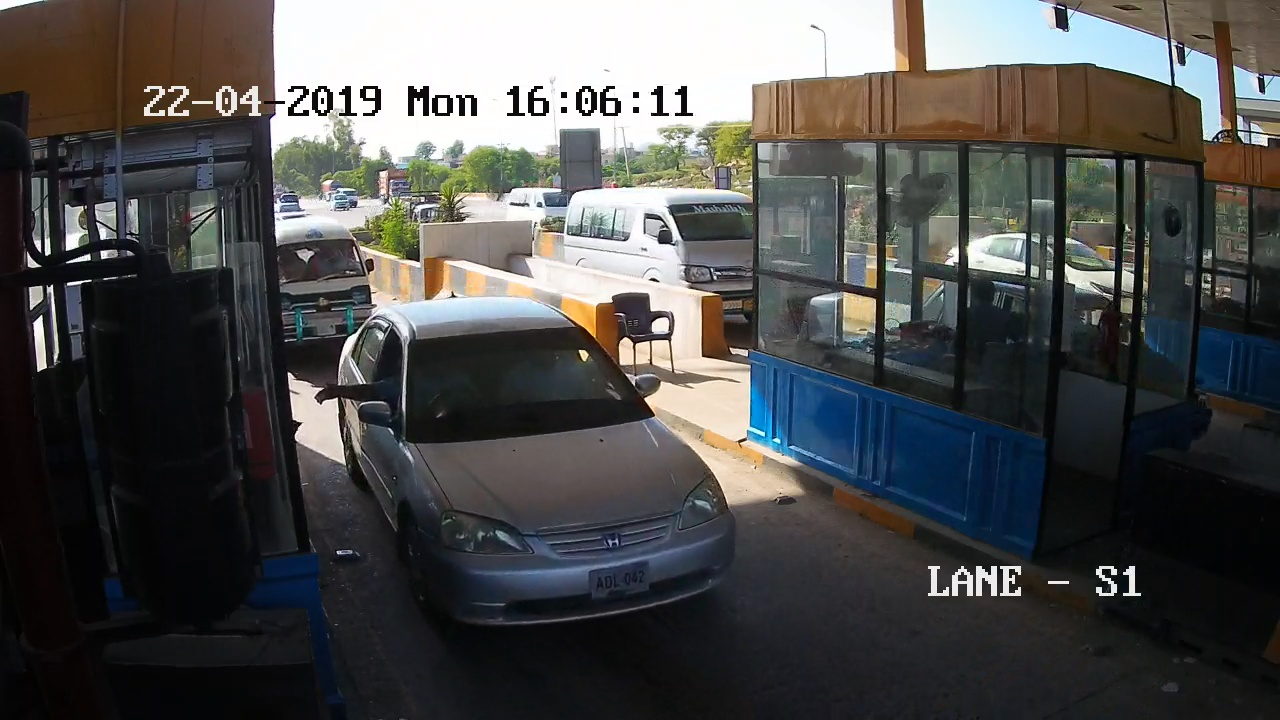Number Plate (Car): (590, 562, 648, 596), (312, 322, 333, 336)
